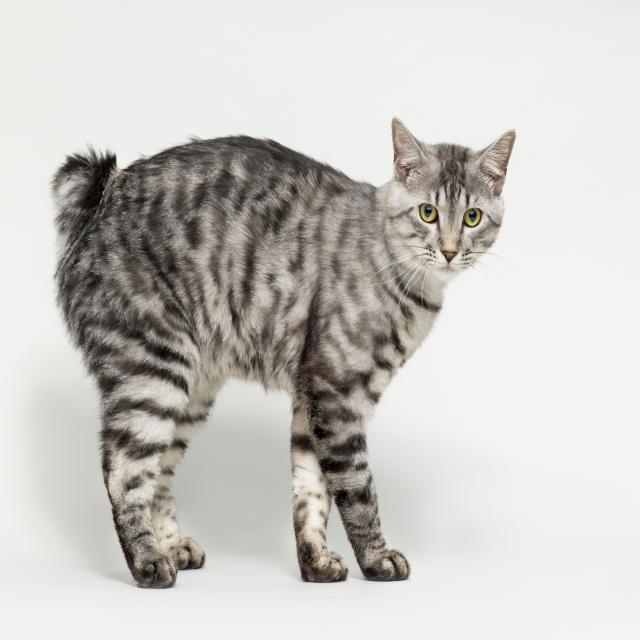American Bobtail: (44, 109, 521, 594)
